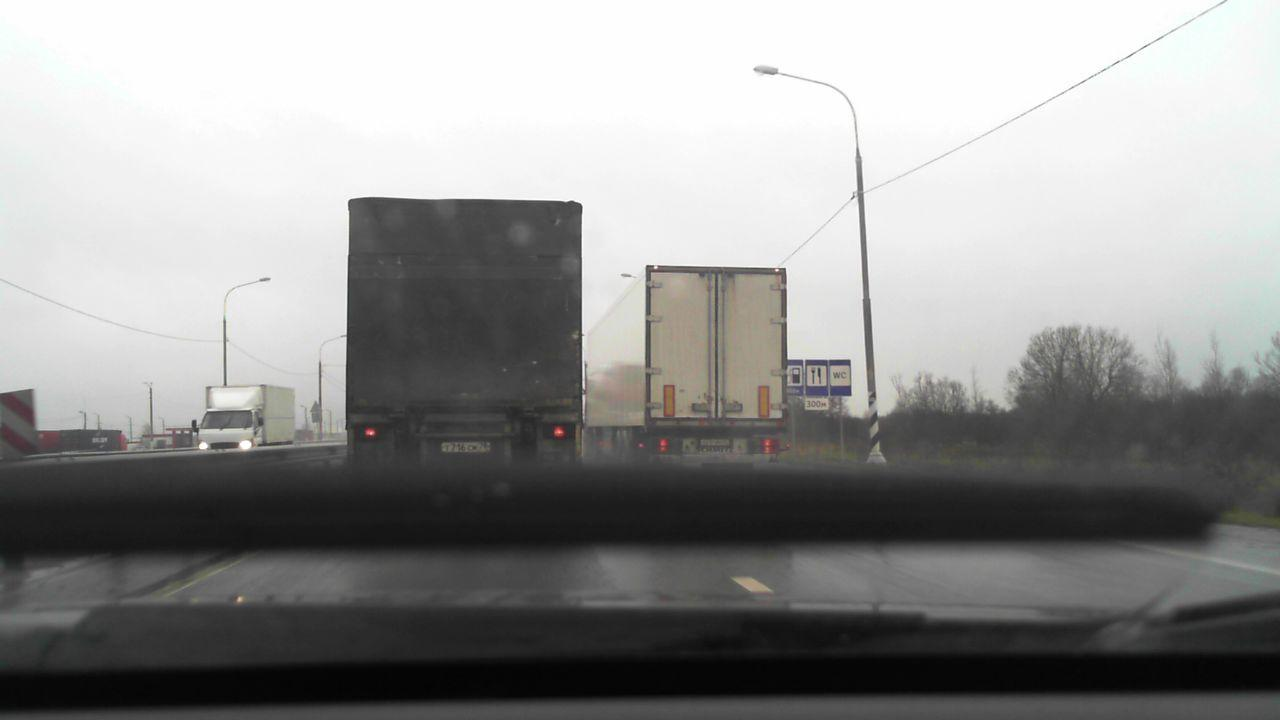7_18: (830, 360, 851, 395)
7_3: (783, 359, 802, 396)
7_7: (805, 360, 827, 395)
8_1_1: (805, 397, 832, 413)
